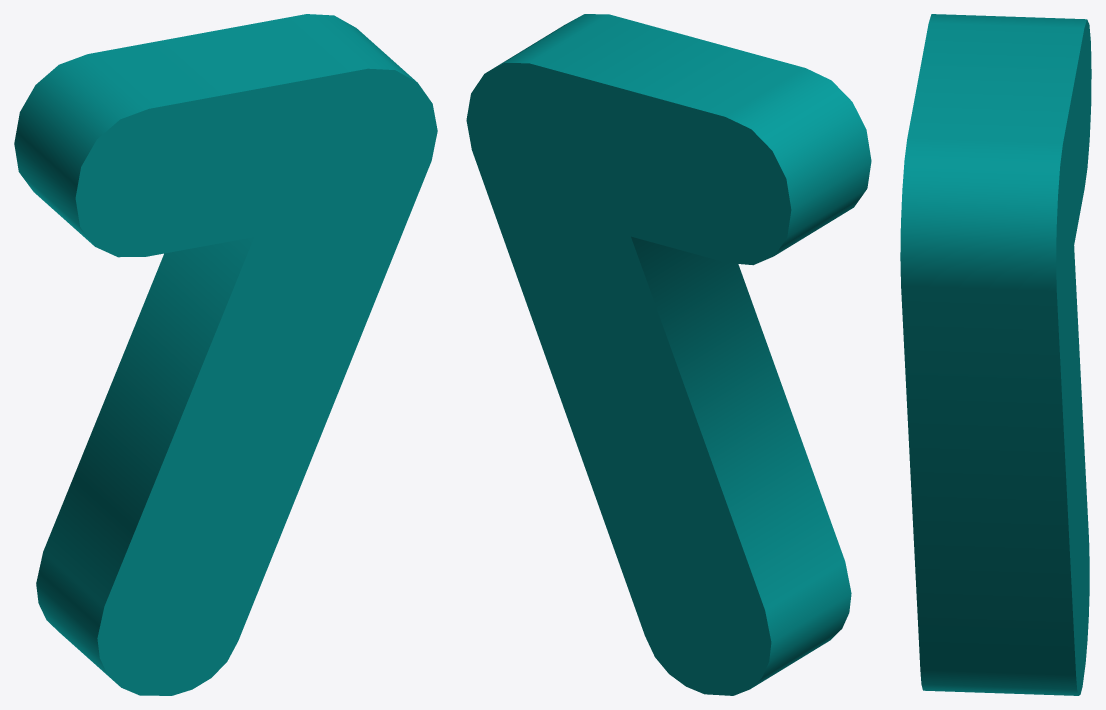
Rendered from choice3.fbx.
3 renders of one model, left to right at view 1: azimuth 30°, elevation 25°; view 2: azimuth 150°, elevation 25°; view 3: azimuth 270°, elevation 25°, orthographic. The views are drawn at different scales.
Parts seen in each view (by area): view 1: Model; view 2: Model; view 3: Model.
Boxes of the visible parts, x1=… form: Model: x1=14, y1=14, x2=437, y2=695; Model: x1=466, y1=14, x2=871, y2=695; Model: x1=900, y1=14, x2=1091, y2=695.
Bounding box in the file's own units: 30.84 × 49.01 × 13.13.
